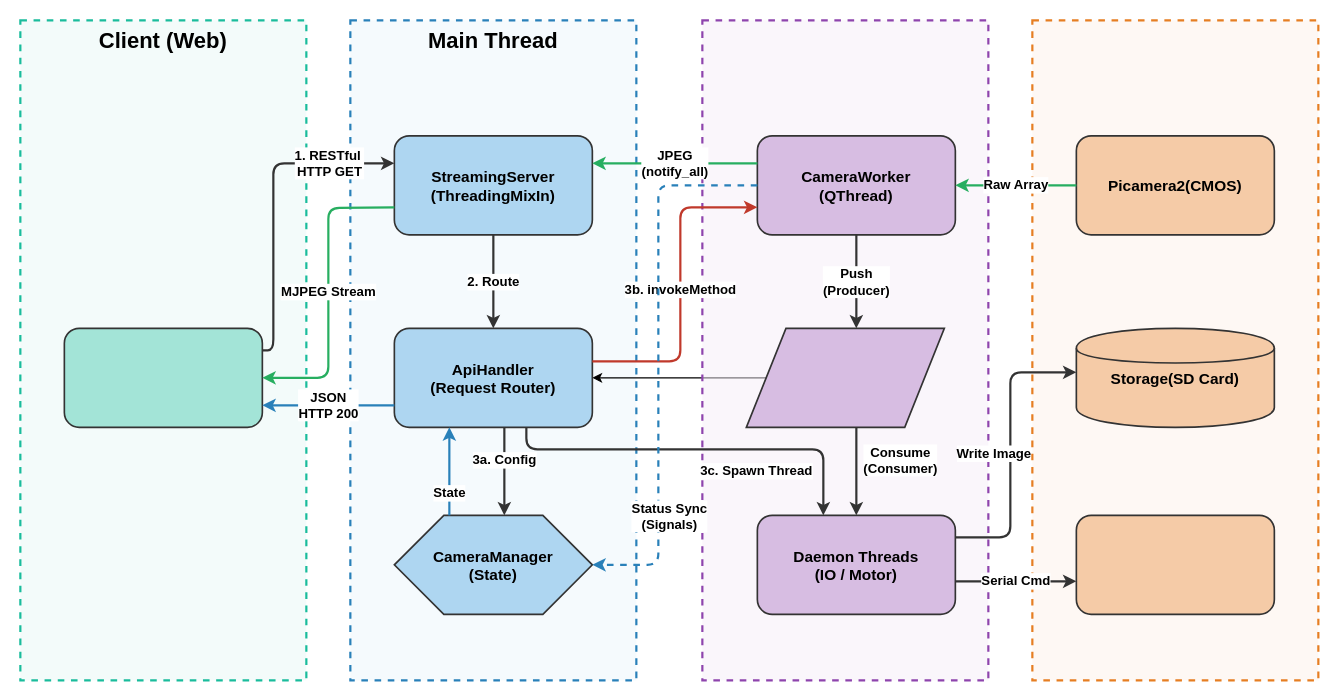
Some shapes in this 1338 by 700 pixel diagram are drawn without their labels. Each missing label, with the box of its shape:
Background Threads: (701, 19, 989, 681)
FIFO Queue (maxsize): (745, 327, 945, 428)
Hardware Layer: (1031, 19, 1319, 681)
Stepper Motor (MCU): (1075, 514, 1275, 615)
Web GUI (HTML5 / Fetch): (63, 327, 263, 428)
